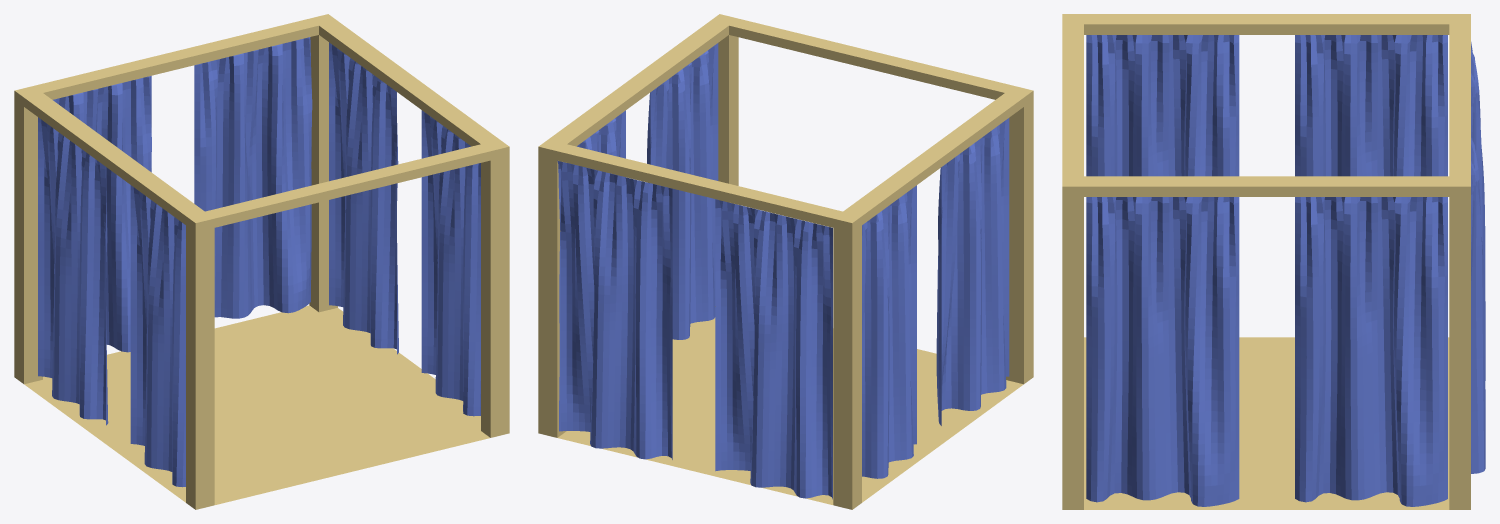
The model's file is Perde.fbx.
3 views of the same model, side by side, from view 1: azimuth 30°, elevation 25°; view 2: azimuth 150°, elevation 25°; view 3: azimuth 270°, elevation 25° (orthographic). The views are drawn at different scales.
Visible parts, largest first — view 1: Curtain 1; view 2: Curtain 1; view 3: Curtain 1.
Part boxes in pixels (x1,y1,x2,y2): Curtain 1: (14, 14, 509, 509); Curtain 1: (538, 14, 1033, 509); Curtain 1: (1062, 14, 1485, 509).
Bounding box in the file's own units: 313 × 268 × 318.
